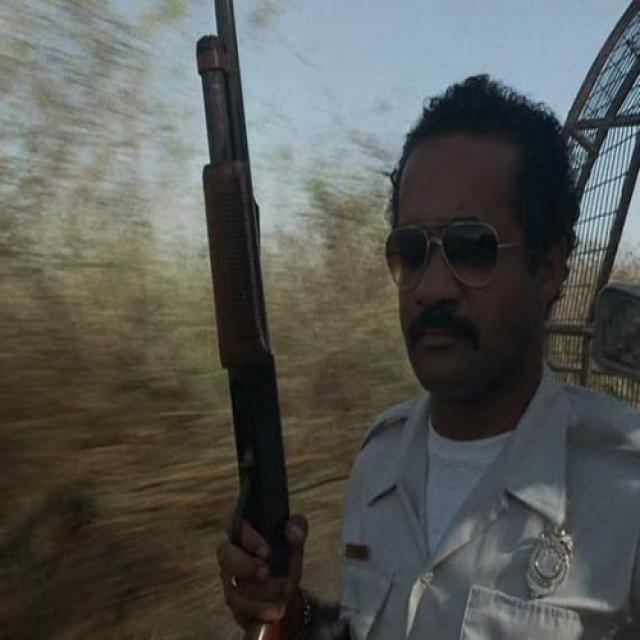rifle: (186, 1, 323, 640)
